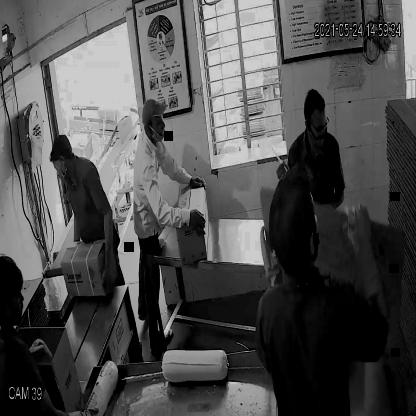goggles: (304, 114, 331, 136)
